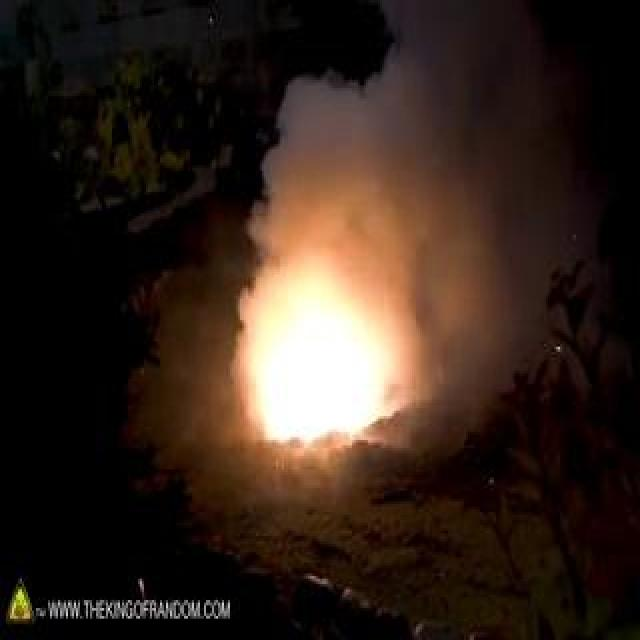Fire: (162, 240, 339, 328)
